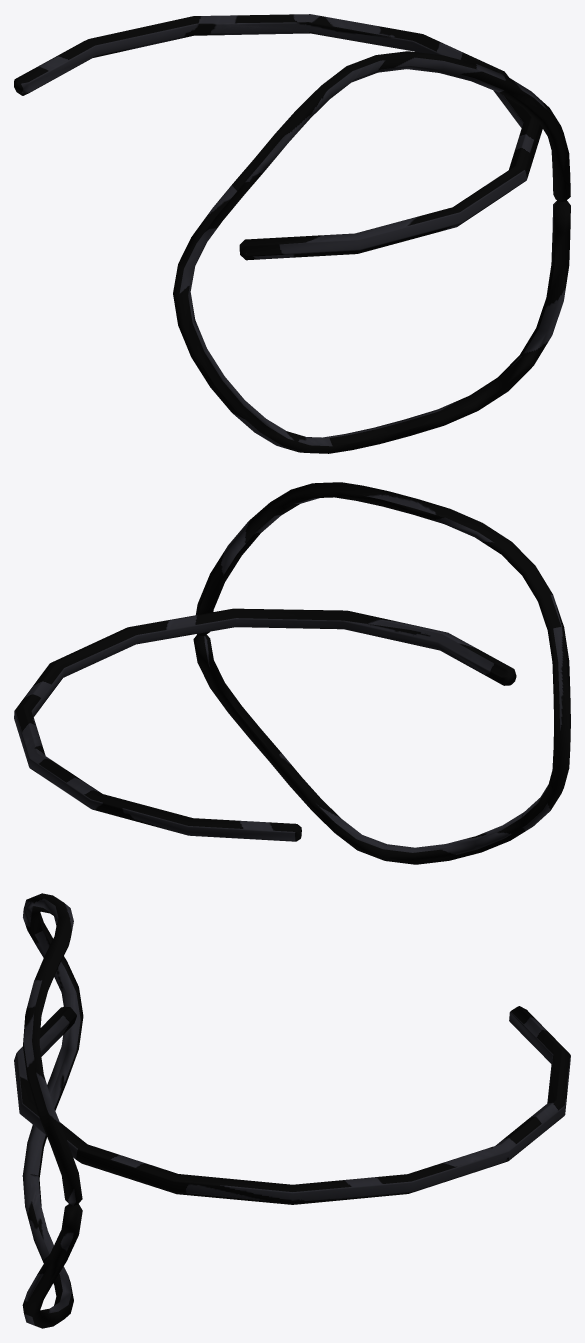
The model's file is Mascarada_MascaraNinguna_Negro.fbx.
The picture shows the model from 3 angles, top to bottom: view 1: azimuth 30°, elevation 25°; view 2: azimuth 150°, elevation 25°; view 3: azimuth 270°, elevation 25°; orthographic projection. The views are drawn at different scales.
Parts seen in each view (by area): view 1: Mascarada_MascaraNinguna_Negro; view 2: Mascarada_MascaraNinguna_Negro; view 3: Mascarada_MascaraNinguna_Negro.
Part boxes in pixels (x1=…): Mascarada_MascaraNinguna_Negro: x1=14, y1=14, x2=570, y2=453; Mascarada_MascaraNinguna_Negro: x1=14, y1=482, x2=570, y2=864; Mascarada_MascaraNinguna_Negro: x1=14, y1=893, x2=570, y2=1328.
Bounding box in the file's own units: 1.21 × 1.02 × 1.32.
